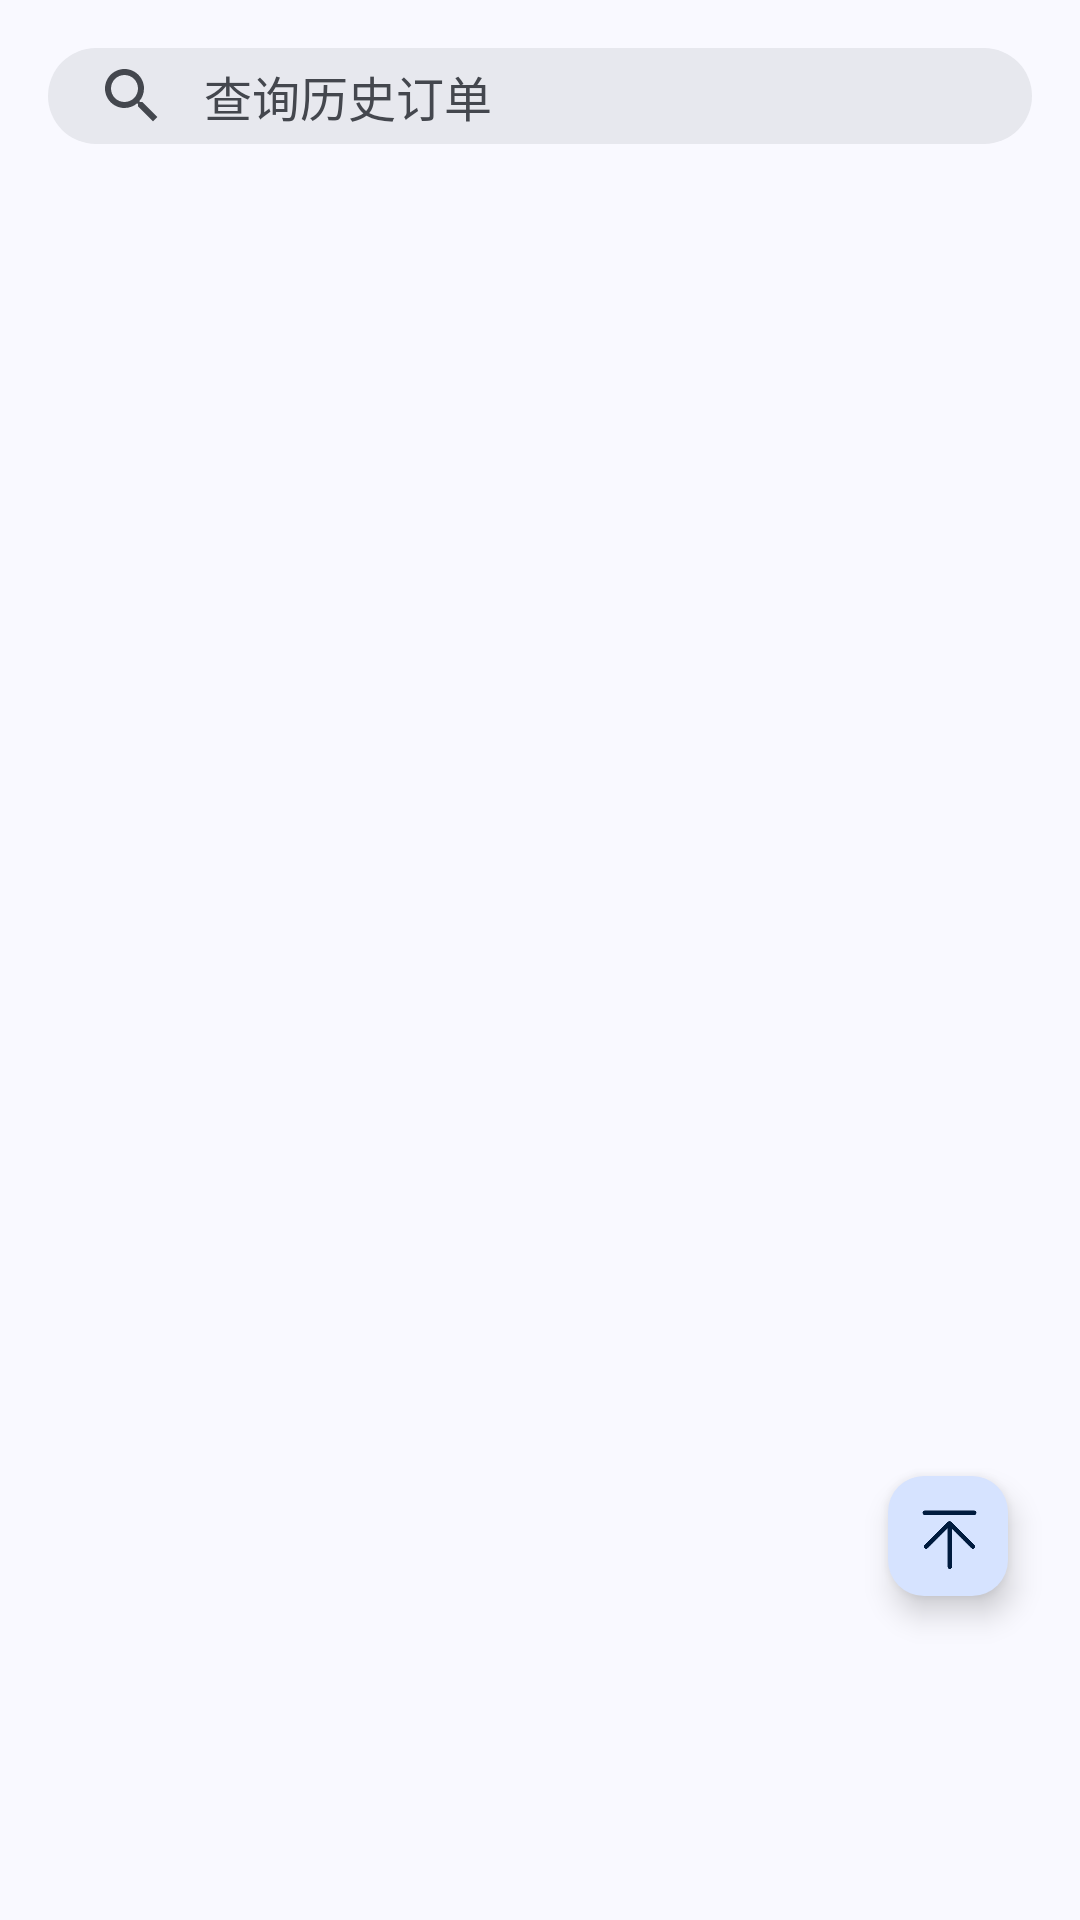

Screen size 1080*1920. Icon name, then its center in pixels as (x,y):
top: (949,1542)
